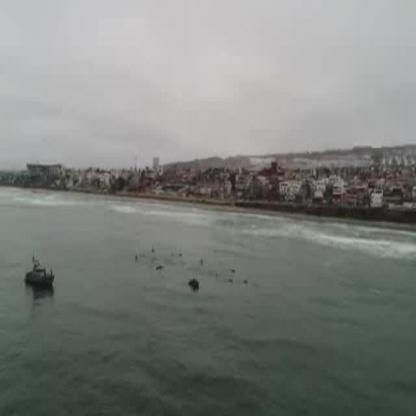Boat: (22, 250, 58, 297)
